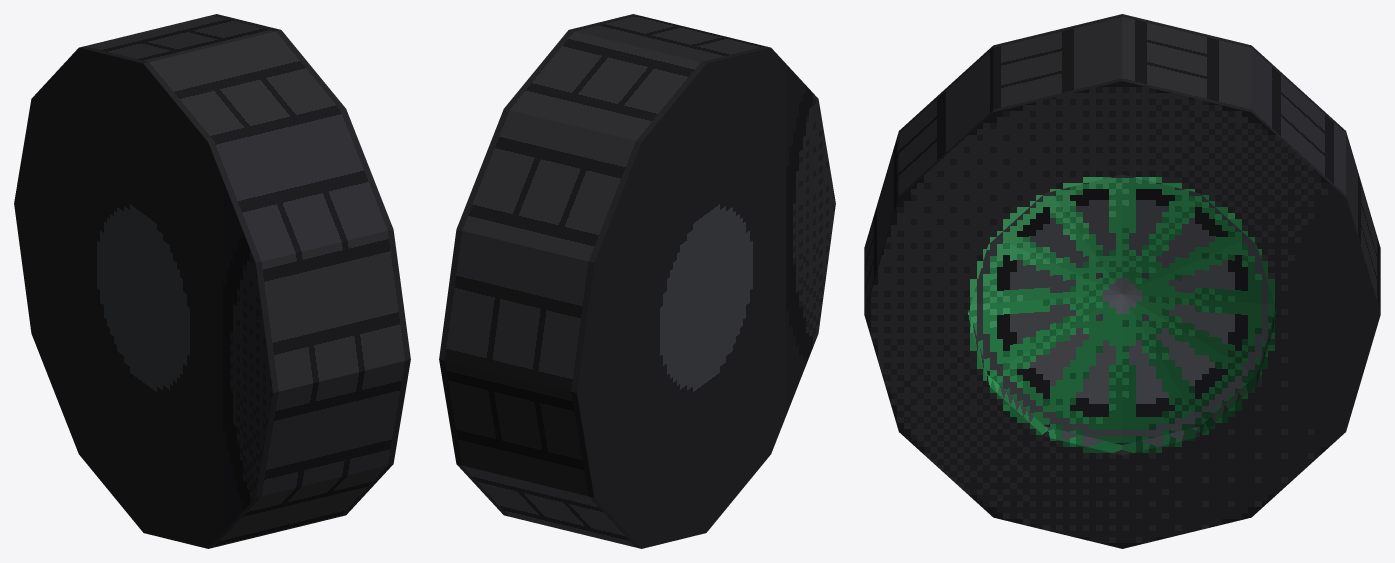
The model's file is wheel_window.glb.
3 views of the same model, side by side, from view 1: azimuth 30°, elevation 25°; view 2: azimuth 150°, elevation 25°; view 3: azimuth 270°, elevation 25° (orthographic).
Visible parts, largest first — view 1: wheel_window; view 2: wheel_window; view 3: wheel_window.
Boxes of the visible parts, x1=… form: wheel_window: x1=14, y1=14, x2=410, y2=548; wheel_window: x1=439, y1=14, x2=835, y2=548; wheel_window: x1=864, y1=14, x2=1380, y2=548.
Bounding box in the file's own units: 0.195 × 0.6345 × 0.6345.
1 material, 1 textured.
